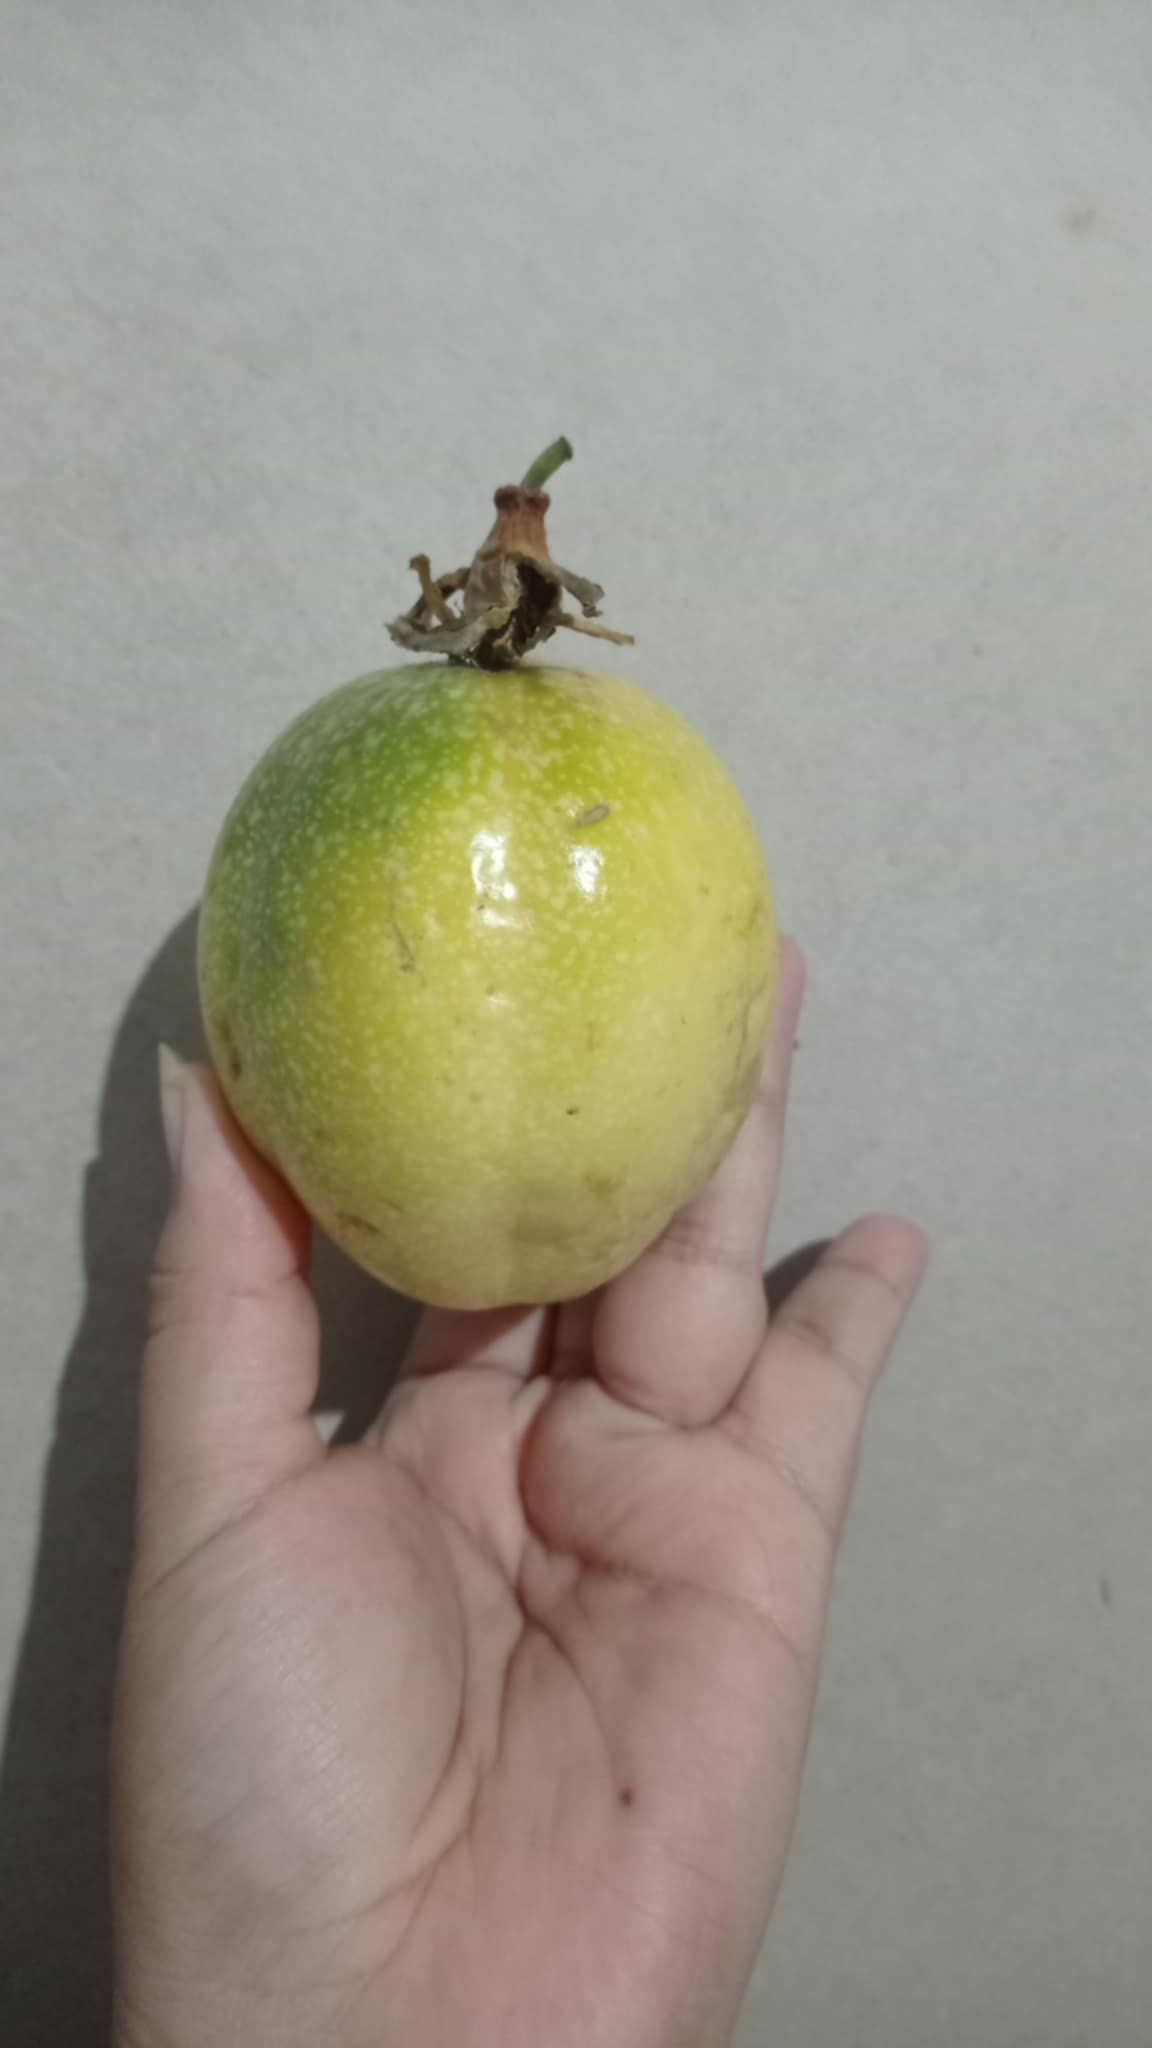maracuya: (174, 428, 789, 1340)
